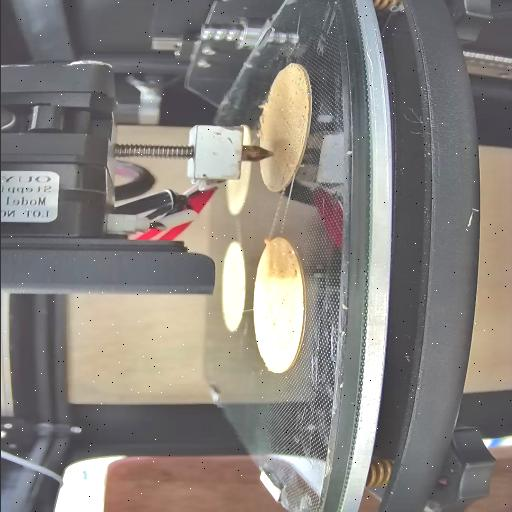under_extrusion: (270, 290, 300, 352), (280, 64, 308, 112), (279, 247, 299, 282), (276, 158, 294, 189)
